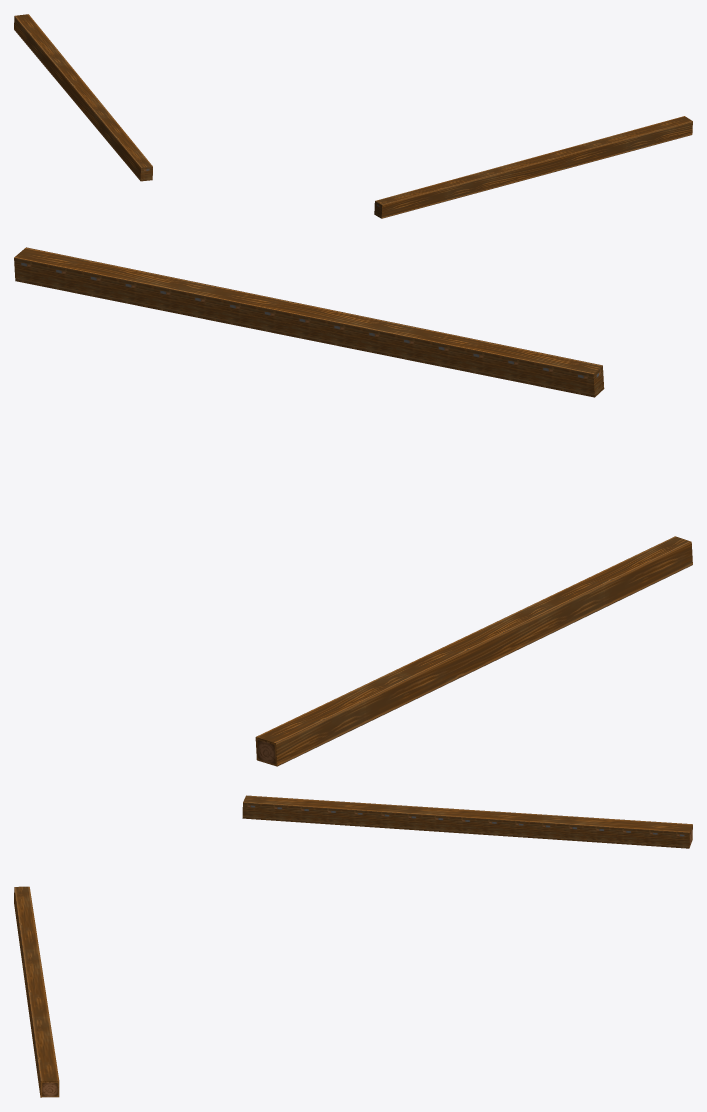
3 renders of one model, top to bottom at view 1: azimuth 30°, elevation 25°; view 2: azimuth 150°, elevation 25°; view 3: azimuth 270°, elevation 25°, orthographic. The views are drawn at different scales.
Visible parts, largest first — view 1: Cube.737; view 2: Cube.737; view 3: Cube.737.
Part boxes in pixels (x1=…): Cube.737: x1=14, y1=14, x2=692, y2=218; Cube.737: x1=14, y1=247, x2=692, y2=766; Cube.737: x1=14, y1=795, x2=692, y2=1097.
Size of the model in its own units: 1900 by 92 by 1955.
1 material, 1 textured.
